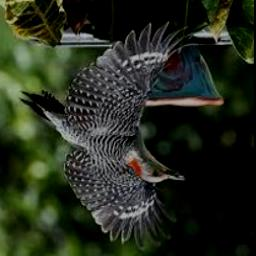Woodpecker: (20, 21, 207, 251)
